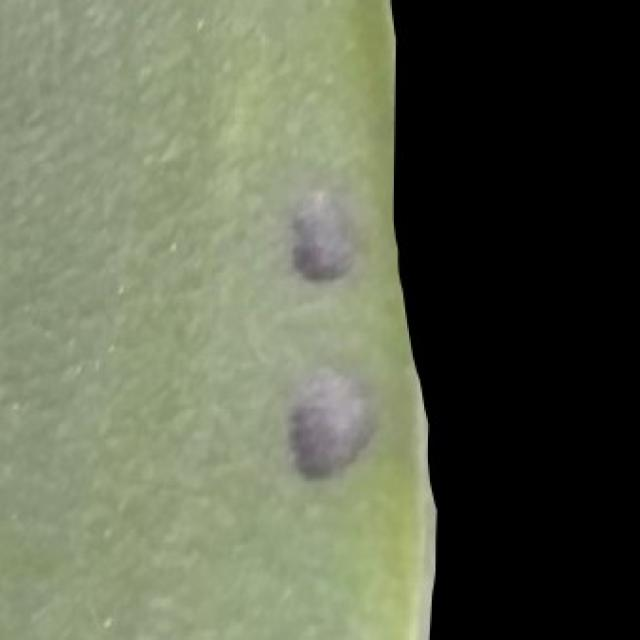mite: (276, 182, 379, 483)
sunburn: (280, 364, 381, 485), (284, 186, 360, 286)
